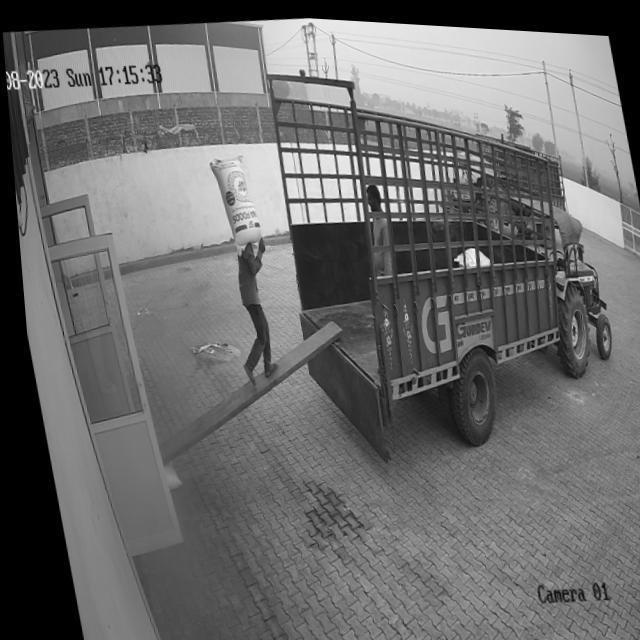sack: (206, 149, 258, 251)
